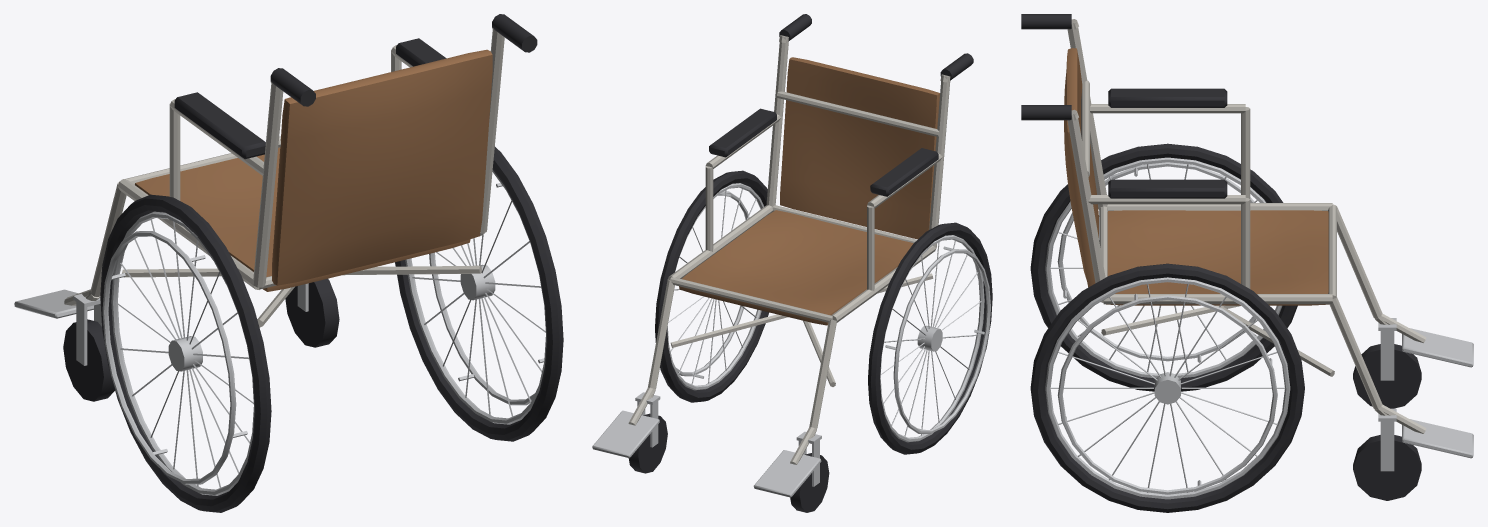
File: san_sedia_ruote.fbx
The picture shows the model from 3 angles, left to right: view 1: azimuth 30°, elevation 25°; view 2: azimuth 150°, elevation 25°; view 3: azimuth 270°, elevation 25°; orthographic projection. The views are drawn at different scales.
Visible parts, largest first — view 1: san_sedia_ruote_cuoio, san_sedia_ruote_gomma, san_sedia_ruote_acciaio, san_sedia_ruote_ruggine; view 2: san_sedia_ruote_cuoio, san_sedia_ruote_gomma, san_sedia_ruote_ruggine, san_sedia_ruote_acciaio; view 3: san_sedia_ruote_gomma, san_sedia_ruote_acciaio, san_sedia_ruote_cuoio, san_sedia_ruote_ruggine.
Boxes of the visible parts, x1,y1,x2,y2 form: san_sedia_ruote_cuoio: [135, 49, 492, 291]; san_sedia_ruote_gomma: [63, 14, 563, 512]; san_sedia_ruote_acciaio: [14, 170, 546, 495]; san_sedia_ruote_ruggine: [64, 27, 504, 327]; san_sedia_ruote_cuoio: [679, 57, 939, 325]; san_sedia_ruote_gomma: [628, 14, 992, 512]; san_sedia_ruote_ruggine: [628, 35, 950, 464]; san_sedia_ruote_acciaio: [592, 183, 990, 497]; san_sedia_ruote_gomma: [1021, 14, 1421, 512]; san_sedia_ruote_acciaio: [1045, 157, 1473, 499]; san_sedia_ruote_cuoio: [1064, 48, 1328, 305]; san_sedia_ruote_ruggine: [1067, 19, 1426, 433].
Bounding box in the file's own units: 0.6995 × 0.947 × 0.9883.
